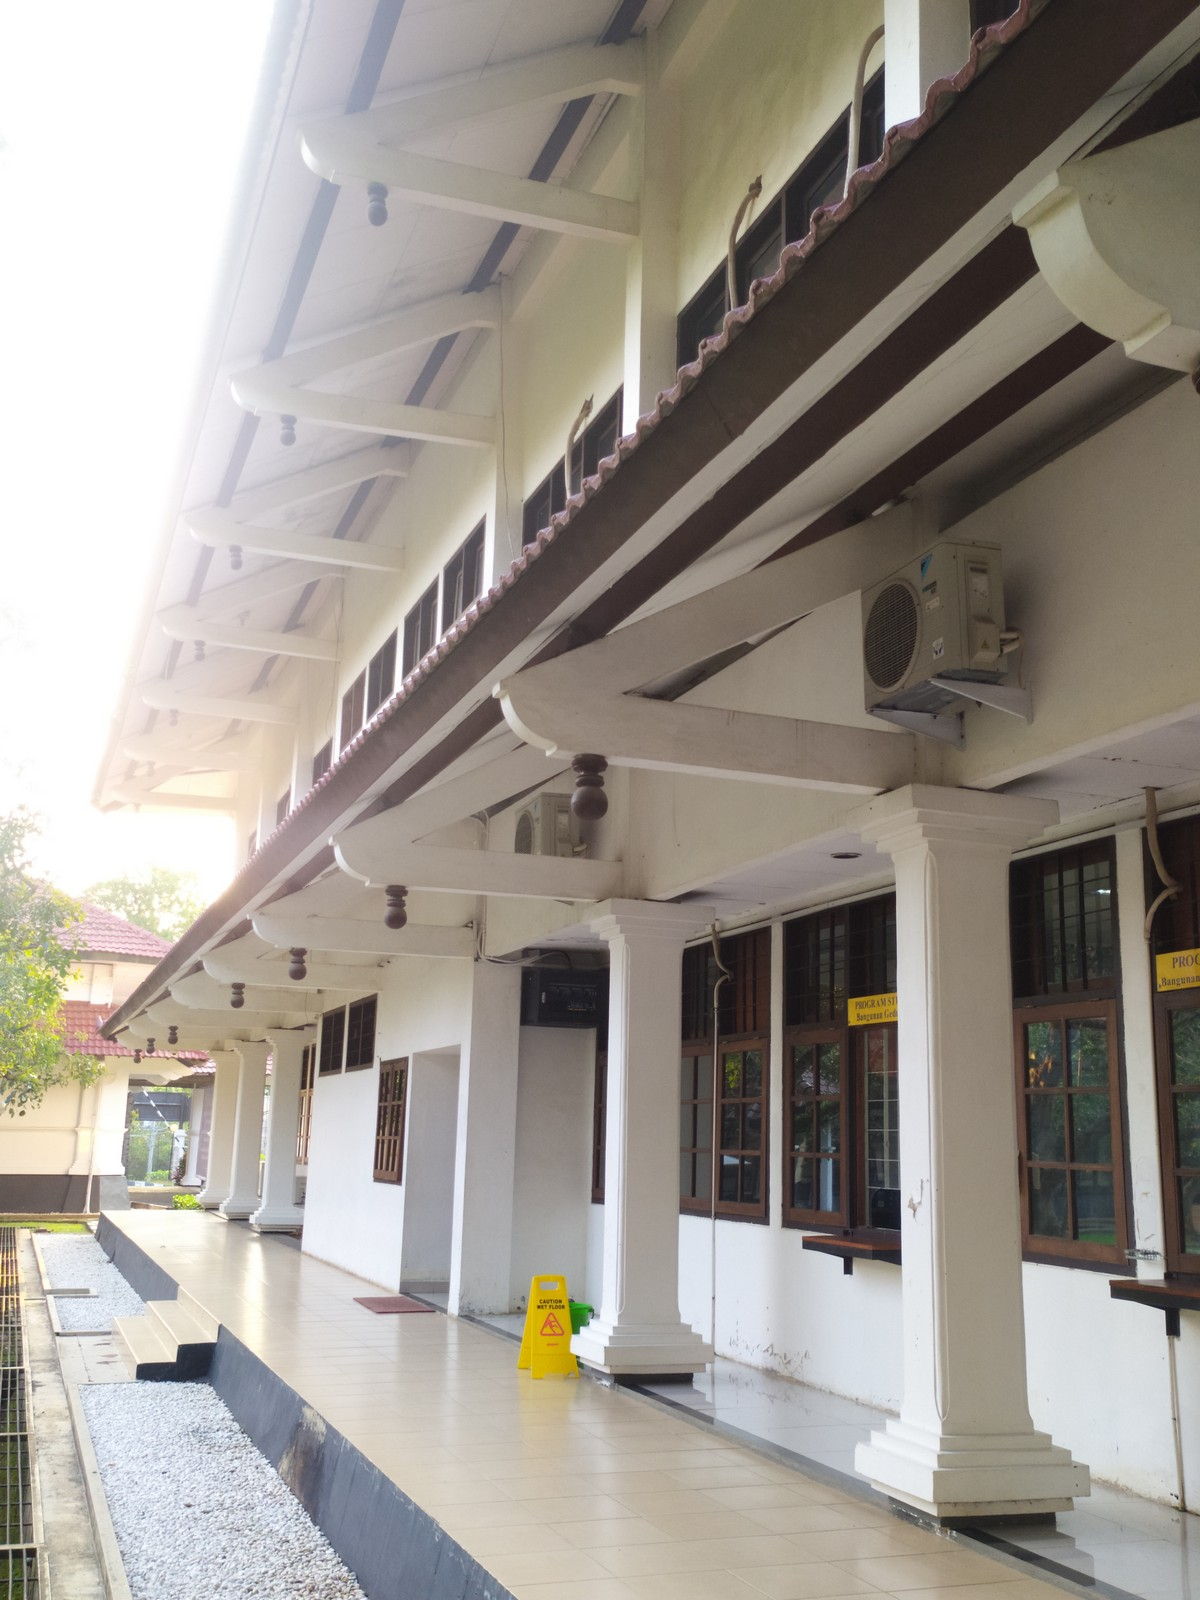concrete beam: (618, 688, 949, 813), (391, 163, 642, 254), (418, 839, 642, 908), (310, 388, 508, 460)
concrete column: (882, 844, 1039, 1444), (599, 947, 691, 1319), (439, 960, 524, 1324), (611, 57, 691, 425), (475, 286, 539, 590), (261, 1032, 306, 1213)
